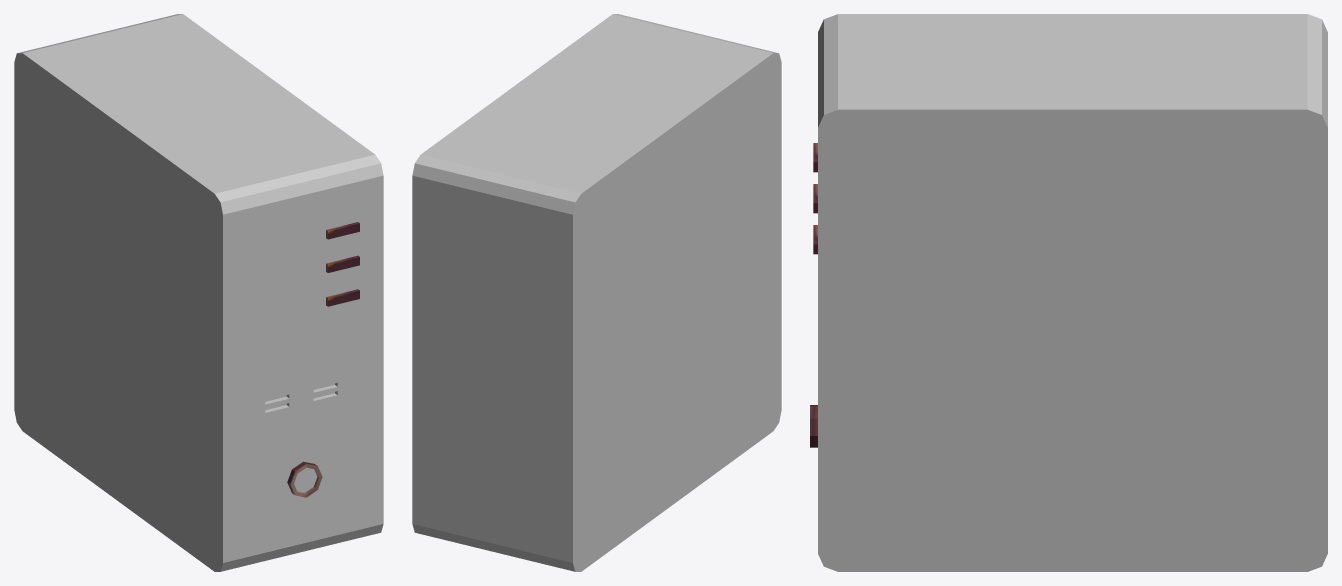
The picture shows the model from 3 angles, left to right: view 1: azimuth 30°, elevation 25°; view 2: azimuth 150°, elevation 25°; view 3: azimuth 270°, elevation 25°; orthographic projection. The views are drawn at different scales.
Visible parts, largest first — view 1: Pc2_C2; view 2: Pc2_C2; view 3: Pc2_C2.
Part boxes in pixels (bbox=[...]): Pc2_C2: bbox=[14, 14, 383, 571]; Pc2_C2: bbox=[412, 14, 781, 571]; Pc2_C2: bbox=[810, 14, 1327, 571].
Bounding box in the file's own units: 20 × 45 × 45.7.
